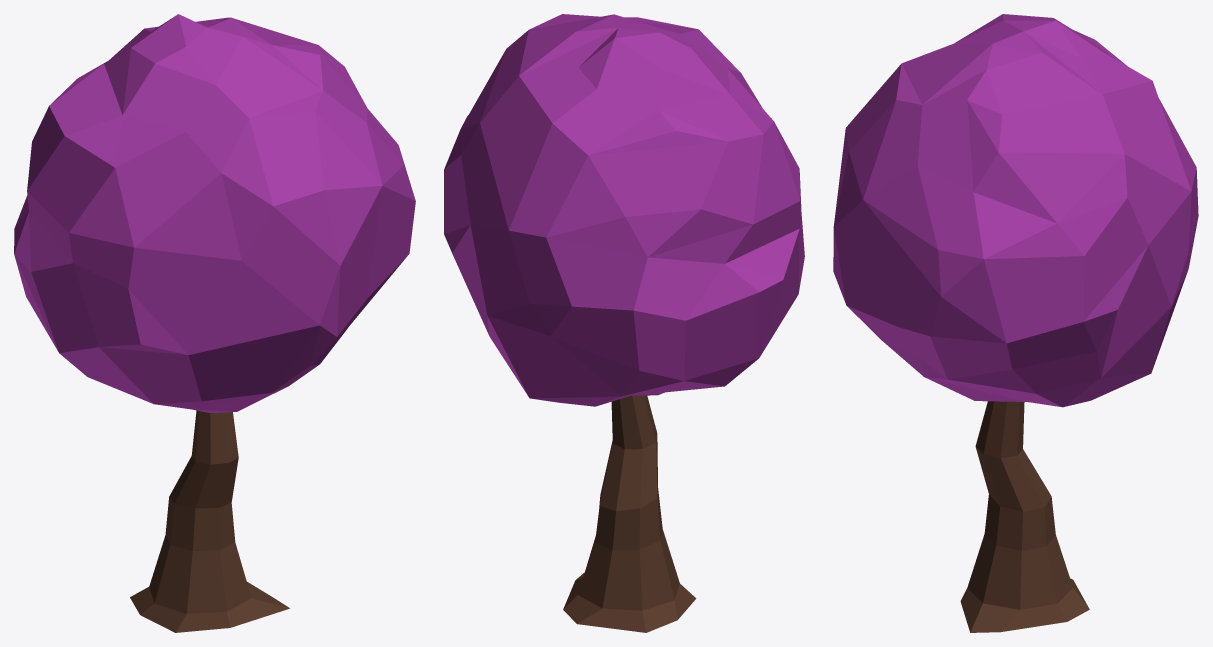
The model's file is tree3.fbx.
The picture shows the model from 3 angles, left to right: view 1: azimuth 30°, elevation 25°; view 2: azimuth 150°, elevation 25°; view 3: azimuth 270°, elevation 25°; orthographic projection.
Visible parts, largest first — view 1: Cylinder; view 2: Cylinder; view 3: Cylinder.
Boxes of the visible parts, left/top/right/bottom form: Cylinder: left=14, top=14, right=415, bottom=632; Cylinder: left=444, top=14, right=804, bottom=632; Cylinder: left=833, top=14, right=1198, bottom=632.
Size of the model in its own units: 190 by 307 by 175.
